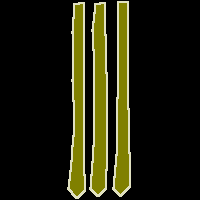tie: (68, 2, 85, 198), (90, 2, 107, 196), (113, 2, 130, 196)
